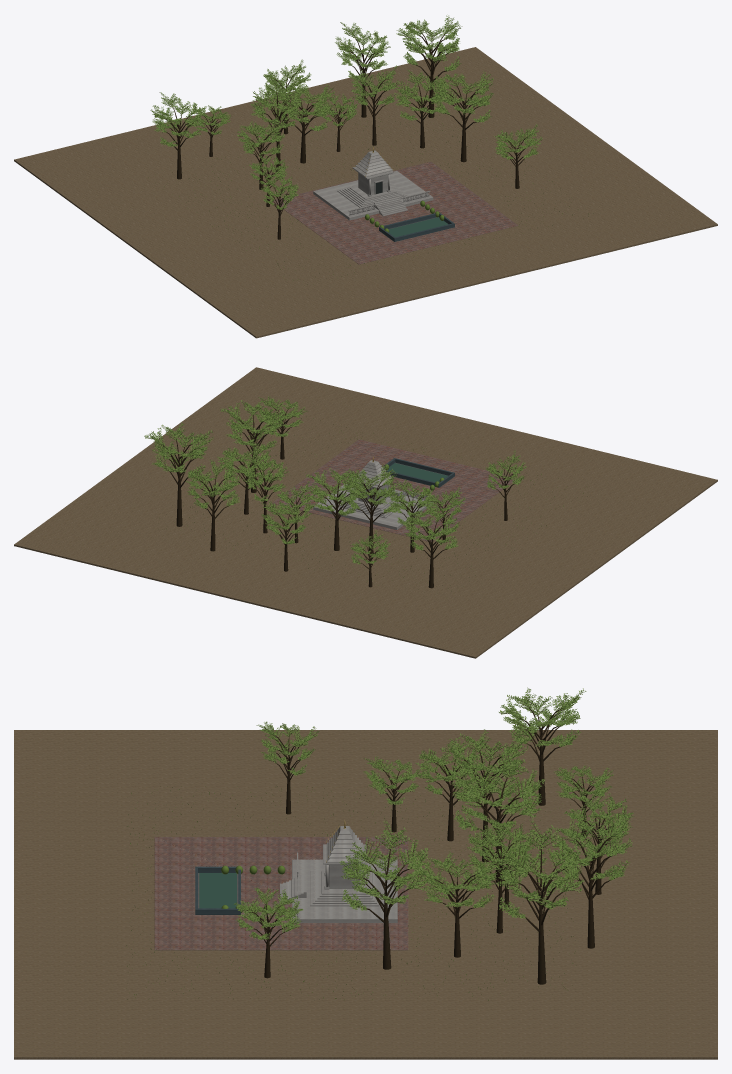
The model's file is pakhangba.glb.
The picture shows the model from 3 angles, top to bottom: view 1: azimuth 30°, elevation 25°; view 2: azimuth 150°, elevation 25°; view 3: azimuth 270°, elevation 25°; orthographic projection. The views are drawn at different scales.
Visible parts, largest first — view 1: Earth beneath the courtyard, Brick courtyard, Lime plaster.002 · architectural surfaces, Broadleaf tree.010, Broadleaf tree.006, Broadleaf tree.013, Broadleaf tree.009, Broadleaf tree.001, Broadleaf tree.002, Broadleaf tree.005, Broadleaf tree.004, Broadleaf tree (+9 smaller); view 2: Earth beneath the courtyard, Brick courtyard, Lime plaster.002 · architectural surfaces, Broadleaf tree.010, Broadleaf tree.006, Broadleaf tree.013, Broadleaf tree.002, Broadleaf tree.001, Broadleaf tree.009, Broadleaf tree.004, Broadleaf tree.005, Broadleaf tree (+8 smaller); view 3: Earth beneath the courtyard, Brick courtyard, Lime plaster.002 · architectural surfaces, Broadleaf tree.010, Broadleaf tree.006, Broadleaf tree.002, Broadleaf tree.009, Broadleaf tree.013, Broadleaf tree.005, Broadleaf tree.001, Broadleaf tree.008, Broadleaf tree.004 (+9 smaller).
Boxes of the visible parts, x1,y1,x2,y2 form: Earth beneath the courtyard: (14,47,717,338); Brick courtyard: (273,162,517,264); Lime plaster.002 · architectural surfaces: (313,150,433,220); Broadleaf tree.010: (396,15,462,117); Broadleaf tree.006: (429,71,494,162); Broadleaf tree.013: (335,22,390,117); Broadleaf tree.009: (150,92,204,179); Broadleaf tree.001: (250,74,305,173); Broadleaf tree.002: (270,83,334,163); Broadleaf tree.005: (395,69,449,148); Broadleaf tree.004: (351,65,399,145); Broadleaf tree: (237,120,286,189); Earth beneath the courtyard: (14,367,717,658); Brick courtyard: (272,439,517,541); Lime plaster.002 · architectural surfaces: (313,460,433,529); Broadleaf tree.010: (144,422,213,526); Broadleaf tree.006: (220,399,288,492); Broadleaf tree.013: (185,459,240,551); Broadleaf tree.002: (306,468,369,550); Broadleaf tree.001: (341,464,397,553); Broadleaf tree.009: (402,506,459,588); Broadleaf tree.004: (240,452,288,533); Broadleaf tree.005: (217,442,273,514); Broadleaf tree: (389,479,433,552); Earth beneath the courtyard: (14,730,717,1059); Brick courtyard: (154,837,408,950); Lime plaster.002 · architectural surfaces: (280,826,397,922); Broadleaf tree.010: (494,818,587,984); Broadleaf tree.006: (339,820,431,969); Broadleaf tree.002: (452,755,544,882); Broadleaf tree.009: (499,687,586,805); Broadleaf tree.013: (550,813,633,948); Broadleaf tree.005: (414,851,502,957); Broadleaf tree.001: (440,729,529,862); Broadleaf tree.008: (233,887,303,978); Broadleaf tree.004: (467,819,534,933).
Size of the model in its own units: 110 by 23.13 by 100.
Materials: 13 (6 with a texture image).
